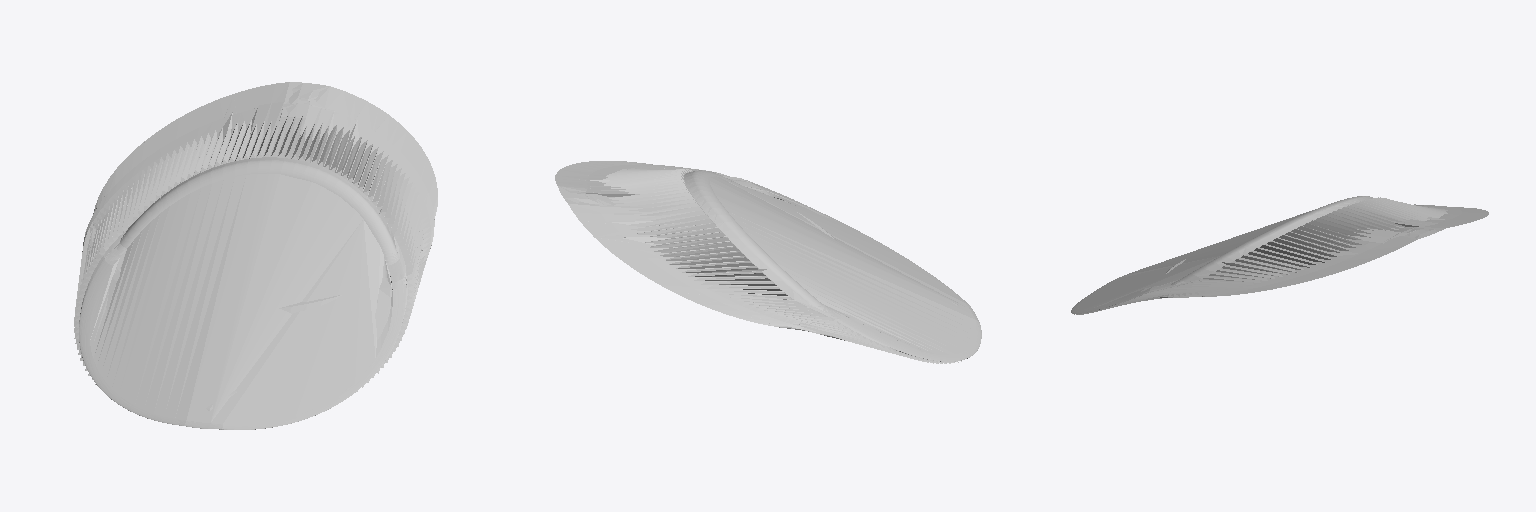
Rendered from bottle_cap_short.007.obj.
3 views of the same model, side by side, from view 1: azimuth 30°, elevation 25°; view 2: azimuth 150°, elevation 25°; view 3: azimuth 270°, elevation 25° (orthographic).
Parts seen in each view (by area): view 1: bottle_cap_short.007; view 2: bottle_cap_short.007; view 3: bottle_cap_short.007.
Boxes of the visible parts, <box> form: bottle_cap_short.007: <box>74,82,437,429</box>; bottle_cap_short.007: <box>555,161,981,363</box>; bottle_cap_short.007: <box>1071,196,1488,314</box>.
Size of the model in its own units: 0.0316 by 0.0146 by 0.0325.